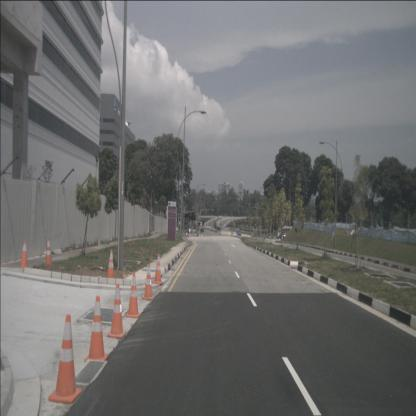cone: (48, 314, 82, 405), (84, 295, 109, 362), (108, 283, 126, 339), (126, 272, 141, 318), (142, 263, 154, 300), (152, 253, 164, 285), (44, 236, 54, 267), (106, 250, 116, 280), (20, 240, 29, 269)
